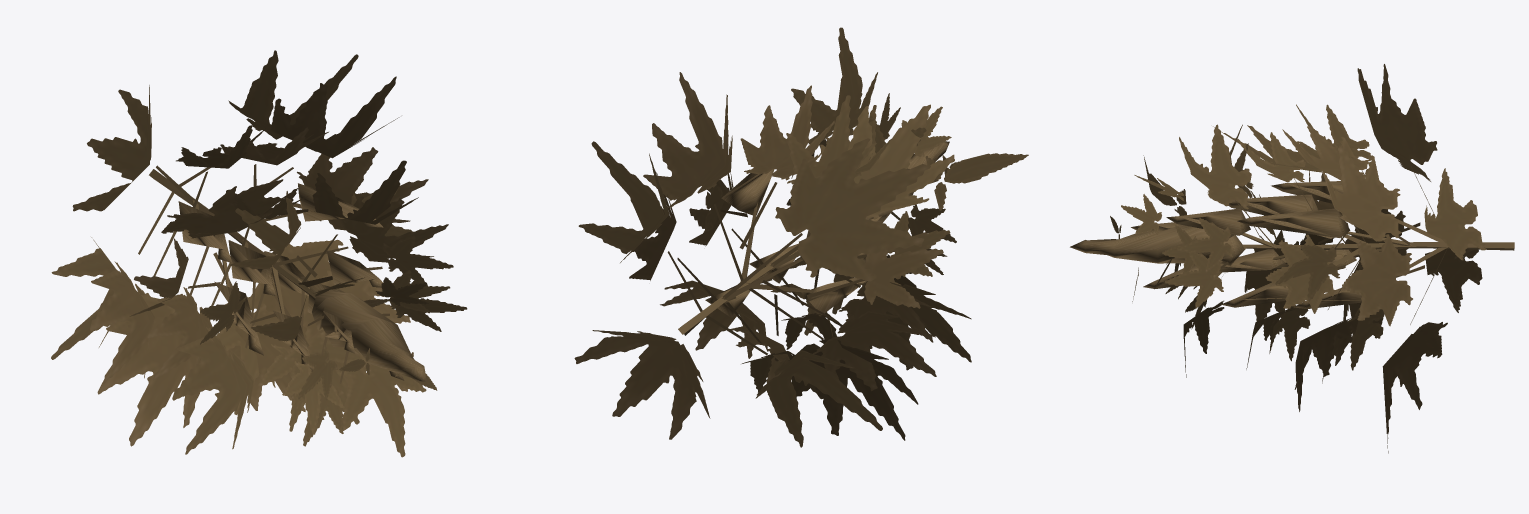
The model's file is p_hybrid_ripe_c3_cards.obj.
3 views of the same model, side by side, from view 1: azimuth 30°, elevation 25°; view 2: azimuth 150°, elevation 25°; view 3: azimuth 270°, elevation 25° (orthographic). The views are drawn at different scales.
Size of the model in its own units: 1.41 by 1.38 by 1.48.
1 material, 1 textured.
